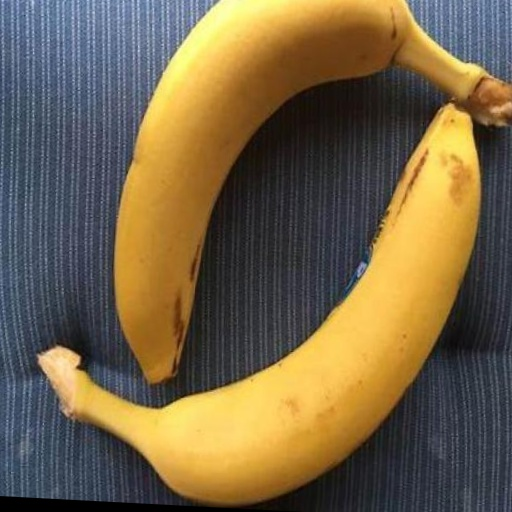fruit: (39, 105, 480, 505)
